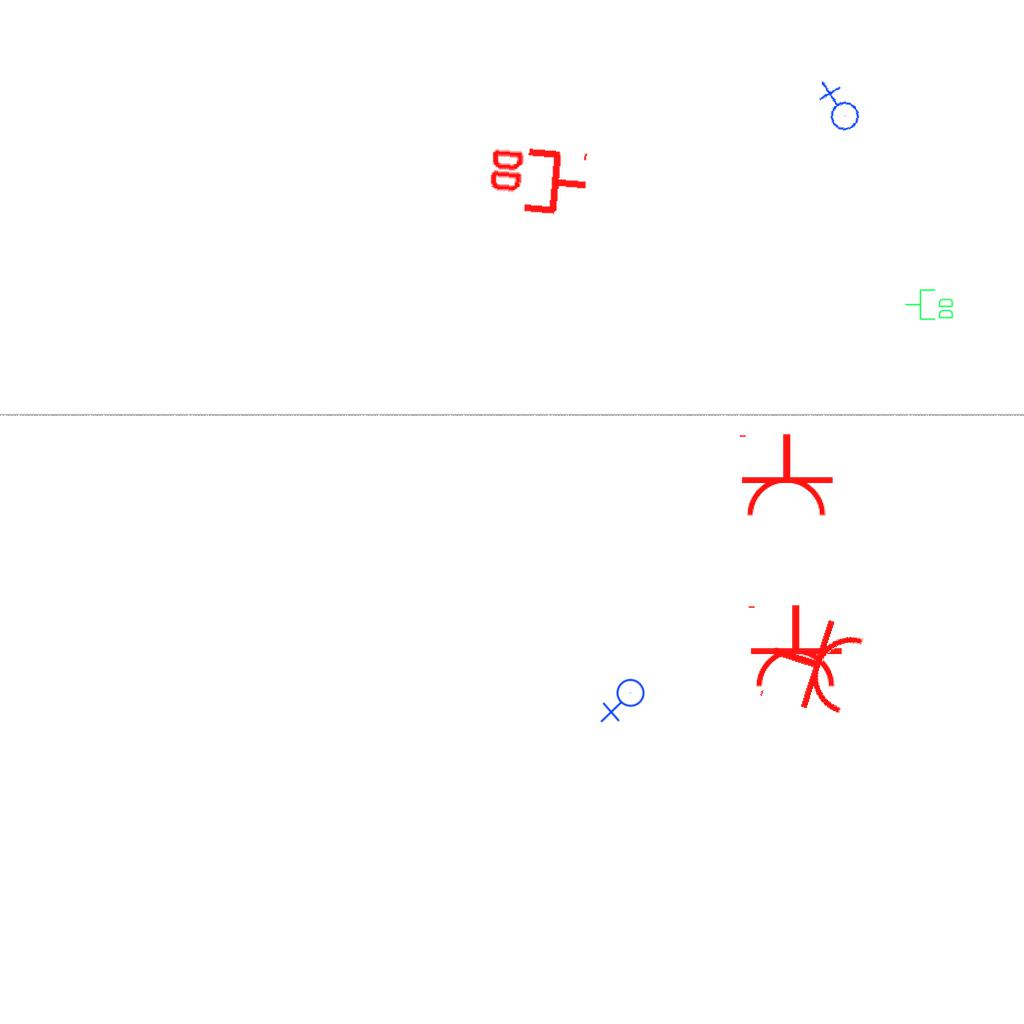Datenanschluss_zweifach: (483, 143, 592, 222), (904, 288, 955, 322)
Elektroanschluss_allgemein_230V_Geraeteanschlussdose_230V: (809, 79, 866, 138), (600, 678, 649, 725)
Schukosteckdose_einfach: (755, 604, 870, 726), (744, 603, 844, 690), (735, 432, 835, 519)
